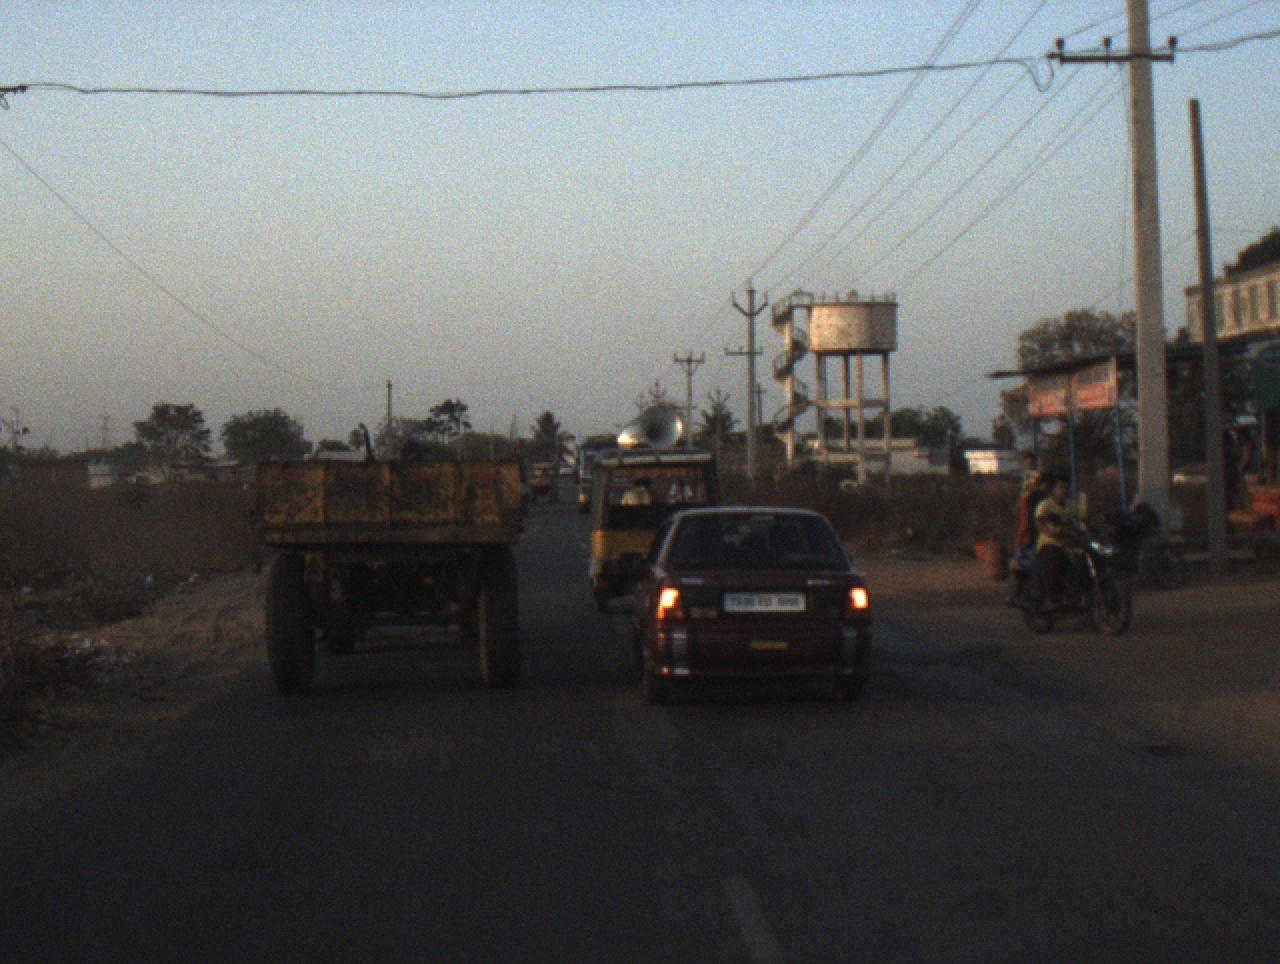car: (612, 506, 874, 705), (587, 406, 726, 610), (560, 461, 574, 480)
motorcycle: (1010, 512, 1138, 638), (1096, 499, 1187, 588)
person: (1013, 454, 1038, 555)
rider: (1034, 474, 1092, 605), (1013, 470, 1056, 556)
truck: (570, 430, 619, 518)
vehicle fallback: (247, 421, 527, 690), (526, 459, 562, 503)
